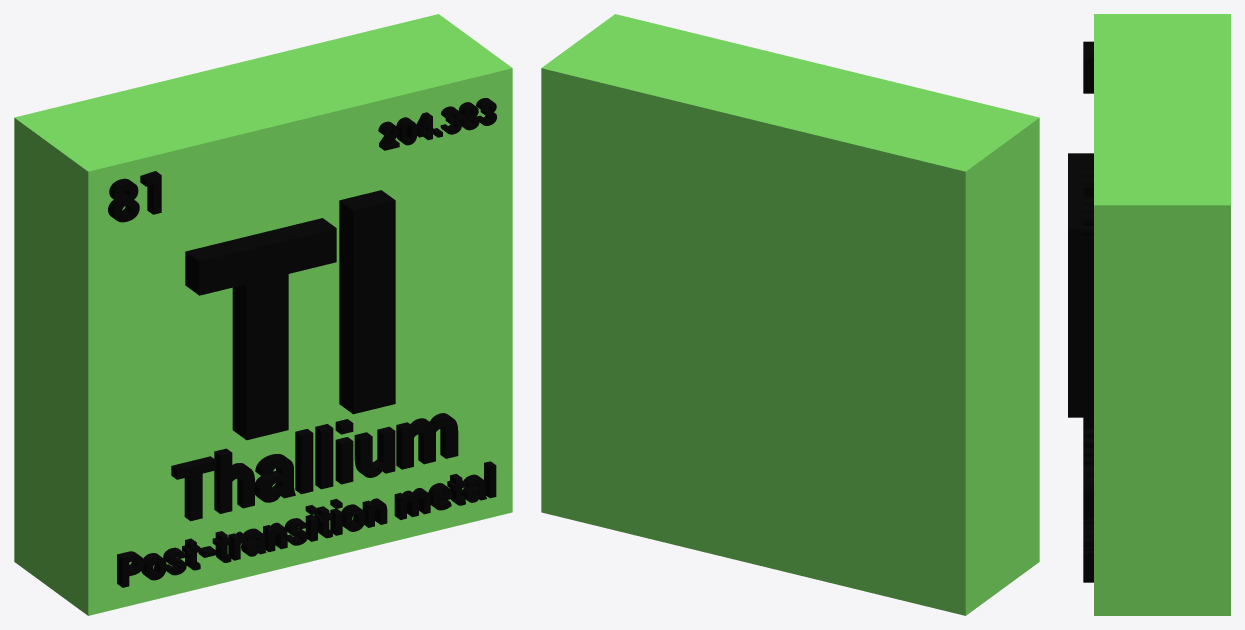
3 views of the same model, side by side, from view 1: azimuth 30°, elevation 25°; view 2: azimuth 150°, elevation 25°; view 3: azimuth 270°, elevation 25° (orthographic). The views are drawn at different scales.
Parts seen in each view (by area): view 1: Cube, Text, Text.001, Text.002, Text.004, Text.003; view 2: Cube; view 3: Cube, Text, Text.001, Text.004, Text.002, Text.003.
Boxes of the visible parts, box(x1,y1,x2,y2) form: Cube: box(14, 14, 512, 615); Text: box(185, 190, 395, 440); Text.001: box(171, 413, 458, 521); Text.002: box(117, 461, 496, 587); Text.004: box(378, 98, 496, 150); Text.003: box(108, 171, 161, 222); Cube: box(541, 14, 1039, 615); Cube: box(1094, 14, 1230, 615); Text: box(1068, 153, 1093, 417); Text.001: box(1083, 417, 1093, 518); Text.004: box(1083, 168, 1093, 235); Text.002: box(1083, 519, 1093, 582); Text.003: box(1083, 41, 1093, 93).
Bounding box in the file's own units: 178 × 178 × 63.95.
